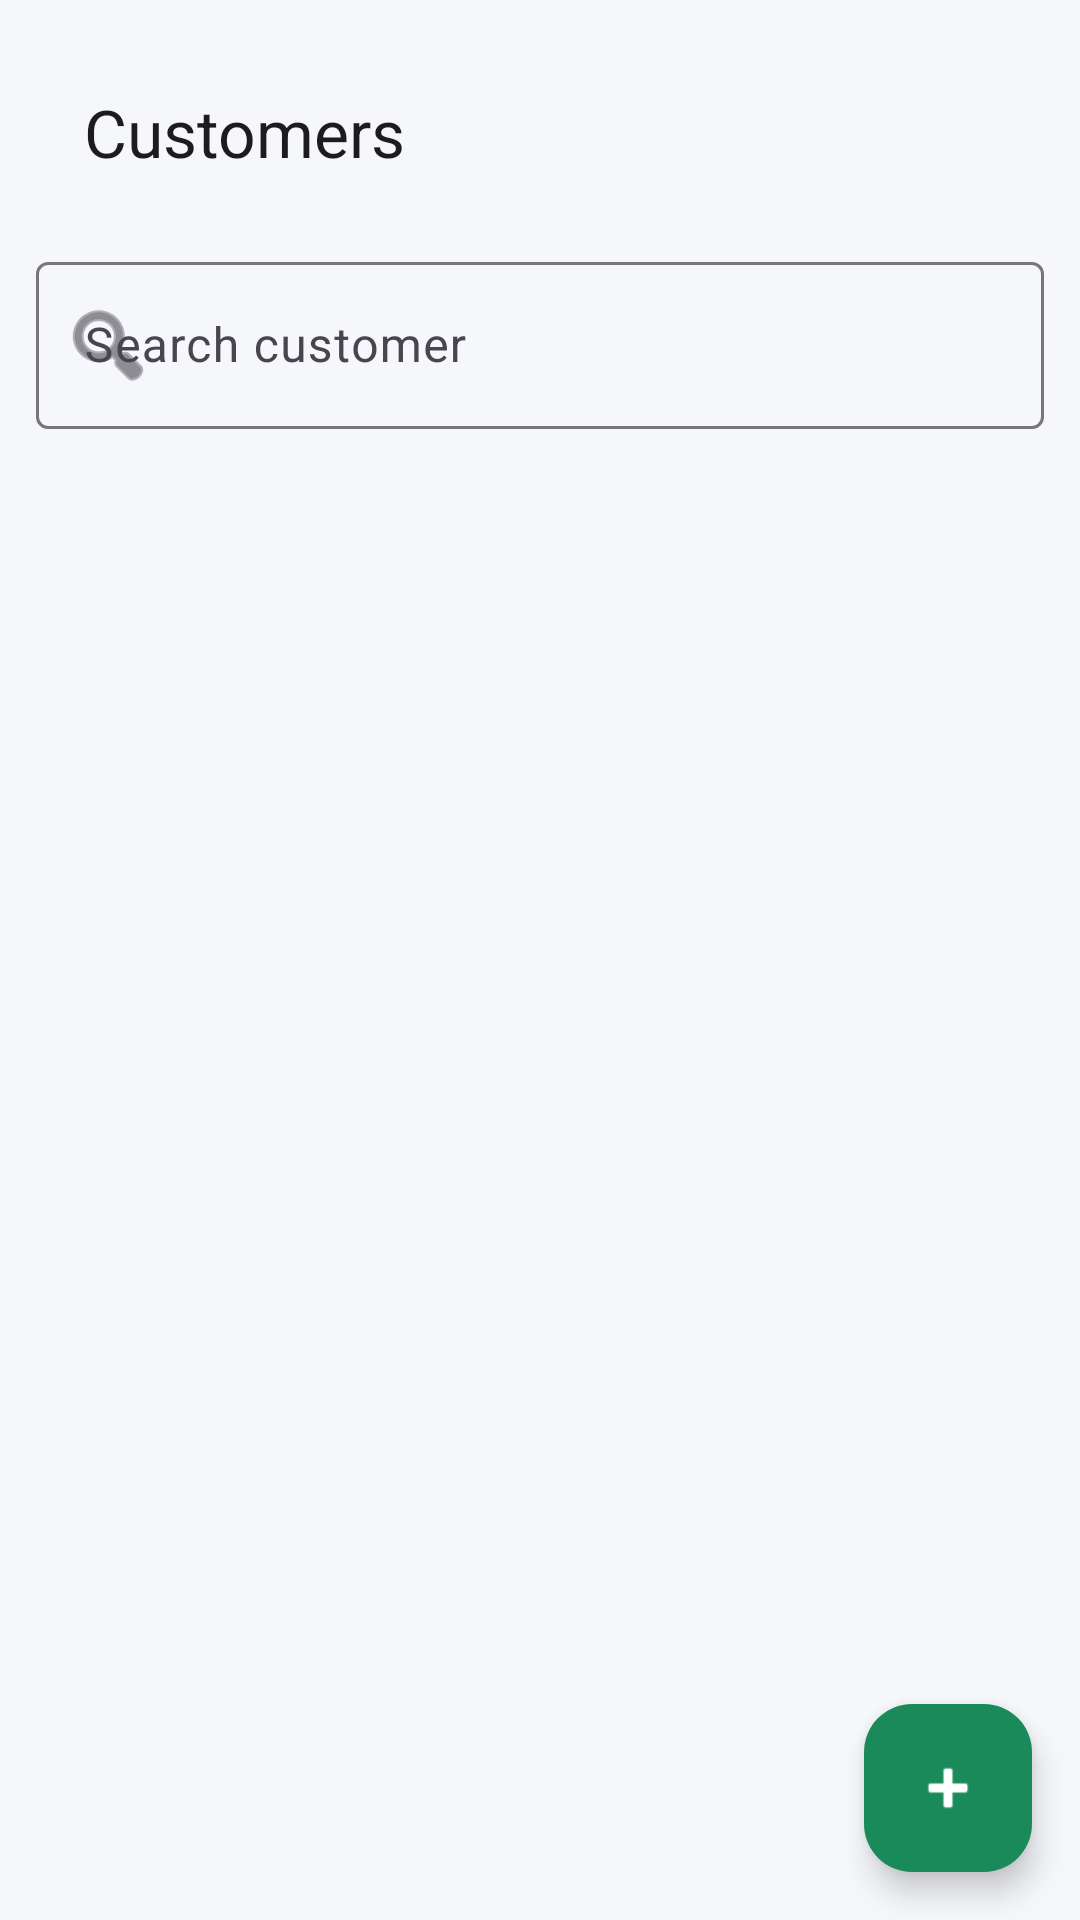

Icon click points for this 1080x1920 phone screenshot, format (x,y):
Add Customer: (948,1788)
